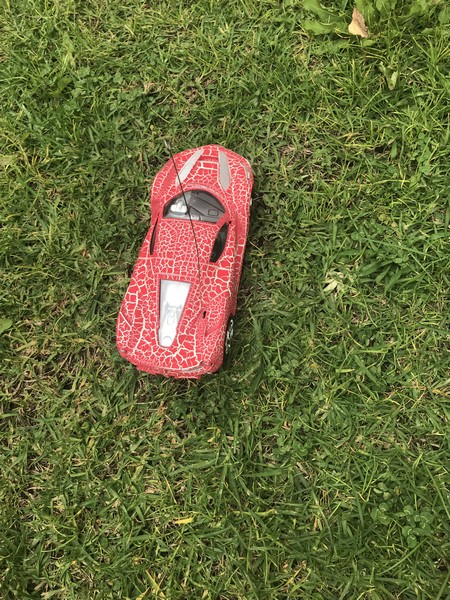RC: (114, 143, 256, 382)
